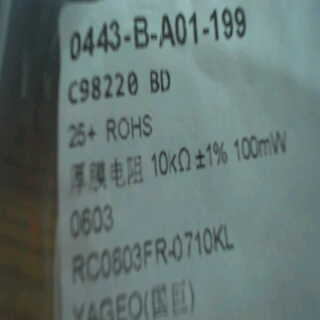10kR: (148, 147, 196, 179)
